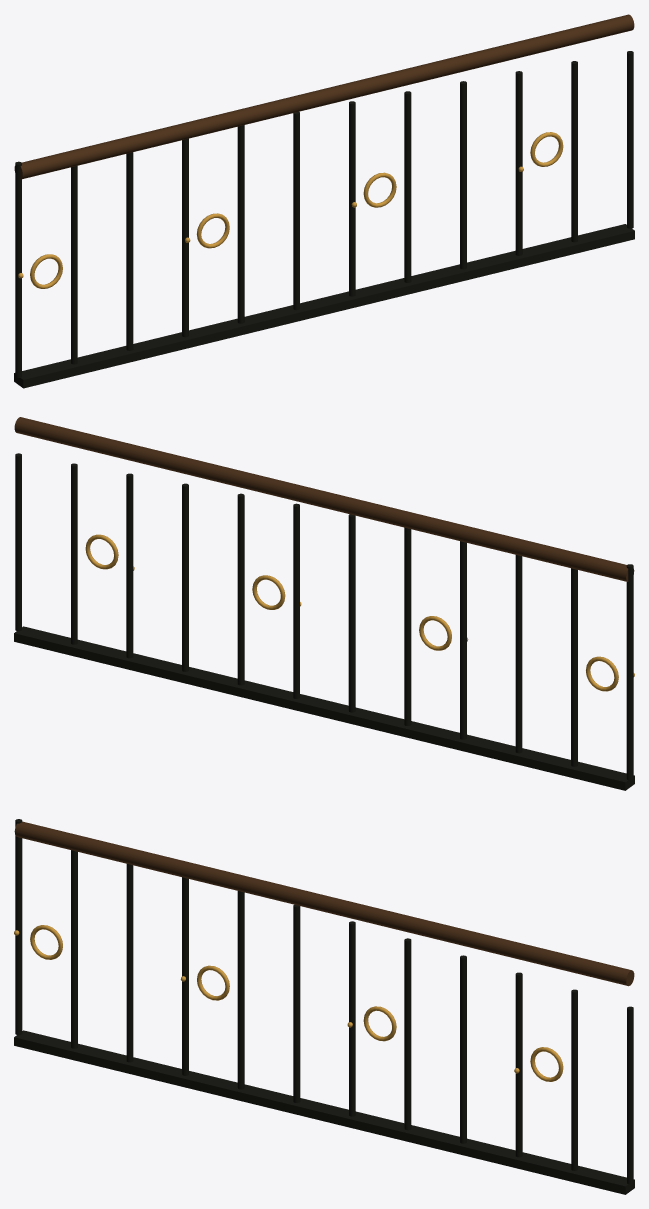
The model's file is stair-railing-internal.glb.
3 views of the same model, one above another, from view 1: azimuth 30°, elevation 25°; view 2: azimuth 150°, elevation 25°; view 3: azimuth 330°, elevation 25° (orthographic).
Bounding box in the file's own units: 3.03 × 1.04 × 0.08.
